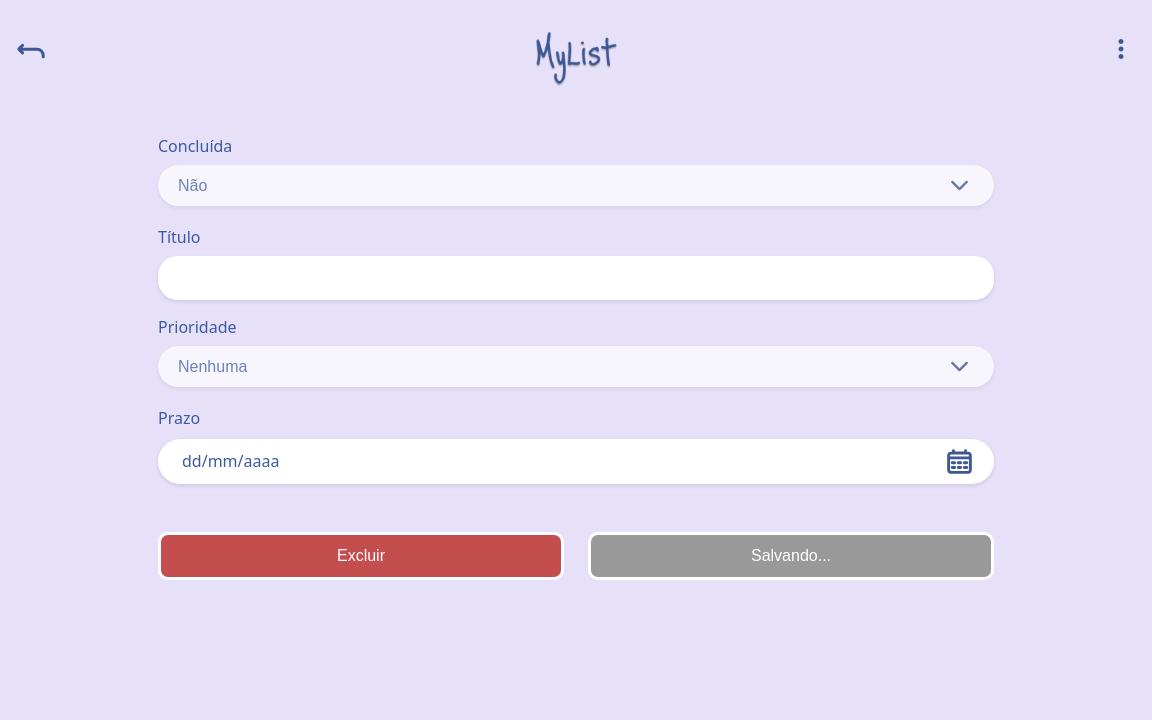
Test case: EditTask › can change fields and submit (success)
The width and height of the screenshot is (1152, 720).
Type "Nova tarefa" into the field labelled "Título".
click(576, 278); type("Nova tarefa")  # box [158,256,994,300]
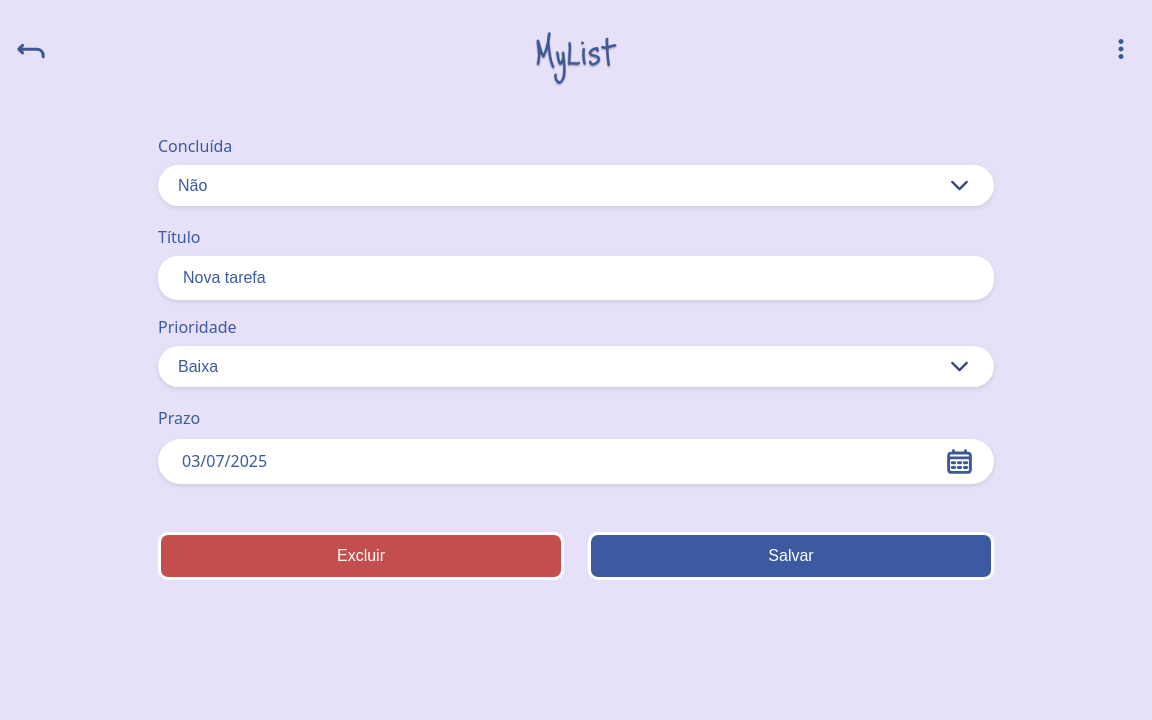
Click the button "Salvar".
click(791, 556)  # box [588,532,994,580]
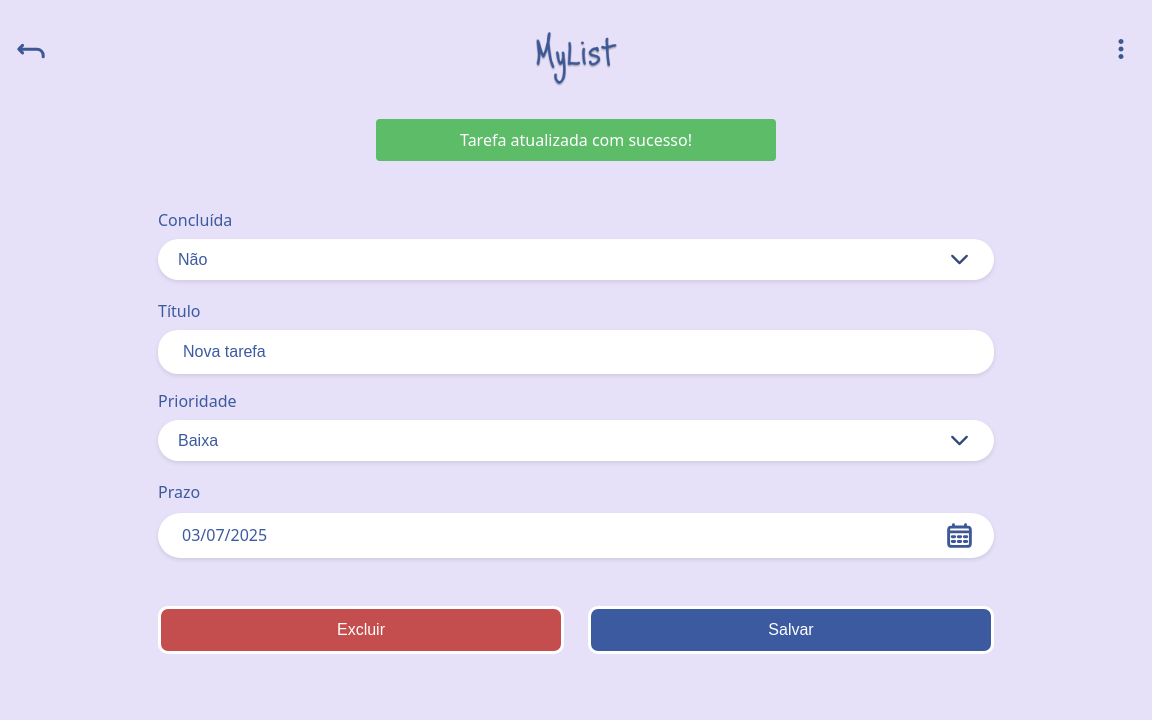
expect the button "Salvando..." is shown: met, box [588,606,994,654]
expect the text "Tarefa atualizada com sucesso!" is shown: met, box [376,119,776,161]
